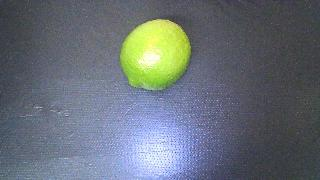EXPORTACION: (120, 19, 191, 91)
